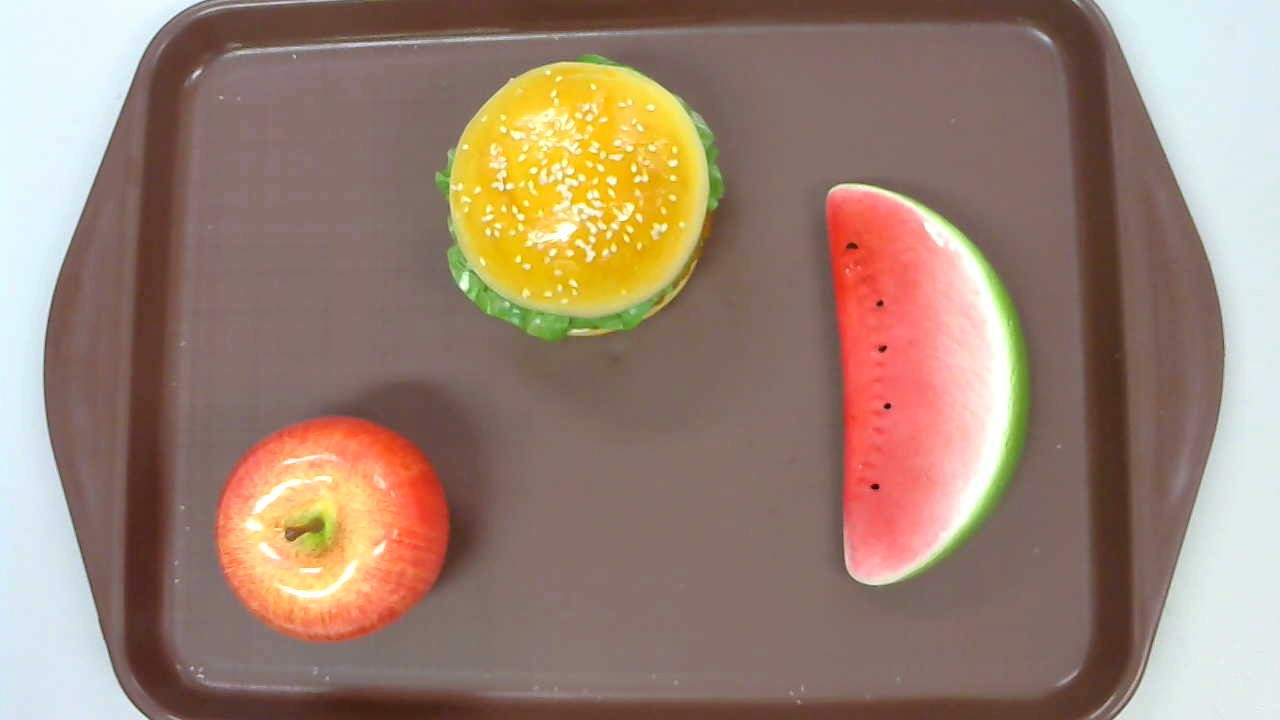hamburger: (434, 53, 725, 342)
red apple: (215, 413, 452, 643)
water melon: (824, 184, 1031, 589)
